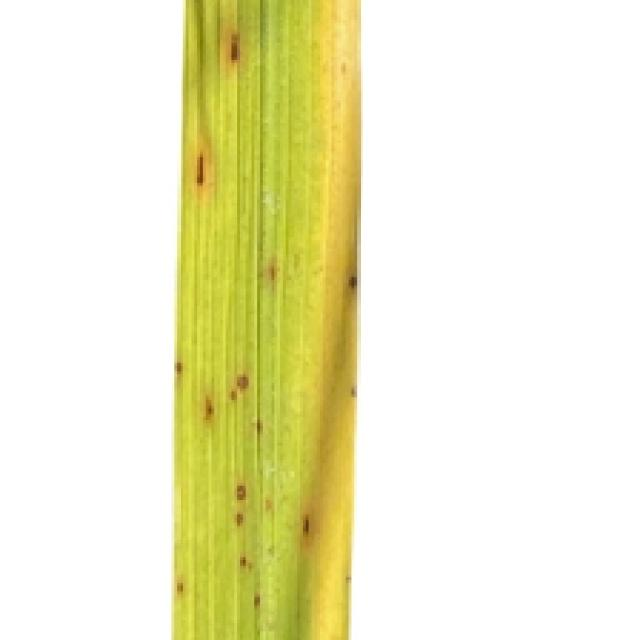Rice___Brown_Spot: (171, 2, 361, 637)
